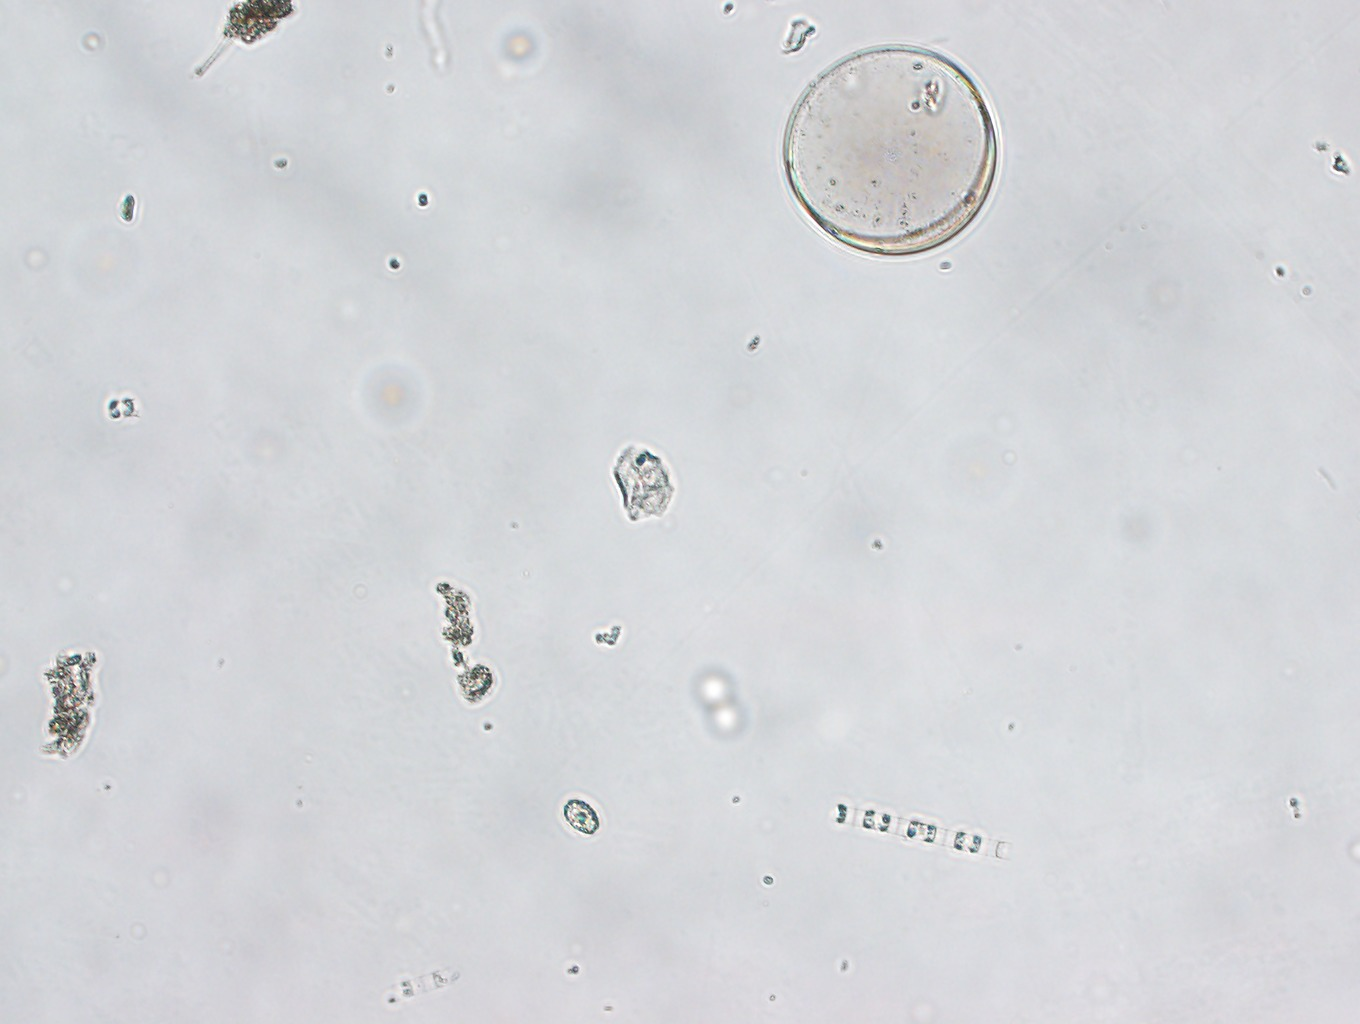coscinodiscus: (778, 40, 1008, 264)
skeletonema: (818, 793, 1016, 874)
